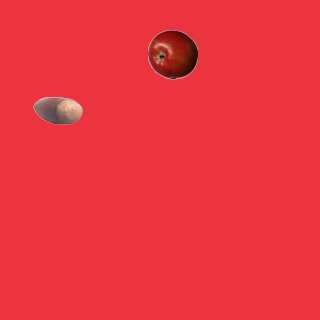Apple Braeburn: (147, 29, 197, 79)
Hazelnut: (32, 85, 82, 135)
